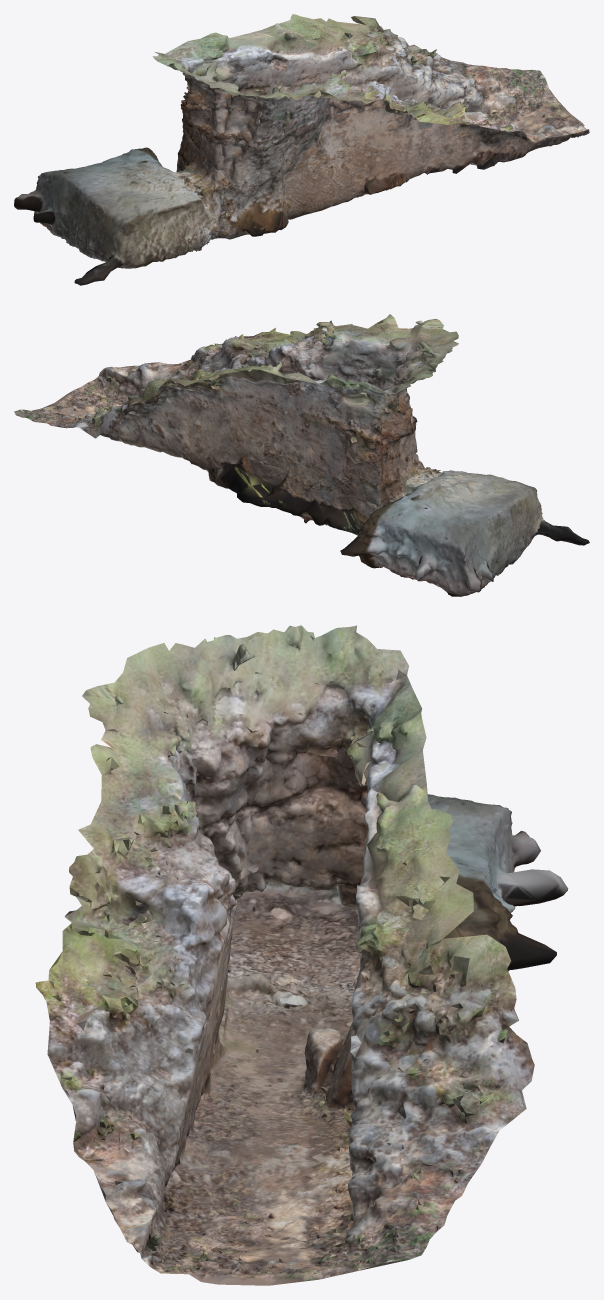
Rendered from Tafos1.fbx.
3 renders of one model, top to bottom at view 1: azimuth 30°, elevation 25°; view 2: azimuth 150°, elevation 25°; view 3: azimuth 270°, elevation 25°, orthographic. The views are drawn at different scales.
Visible parts, largest first — view 1: Tafos1; view 2: Tafos1; view 3: Tafos1.
Part boxes in pixels (x1=…): Tafos1: x1=14, y1=14, x2=589, y2=285; Tafos1: x1=14, y1=314, x2=589, y2=596; Tafos1: x1=35, y1=625, x2=568, y2=1285.
Size of the model in its own units: 976 by 432 by 328.
